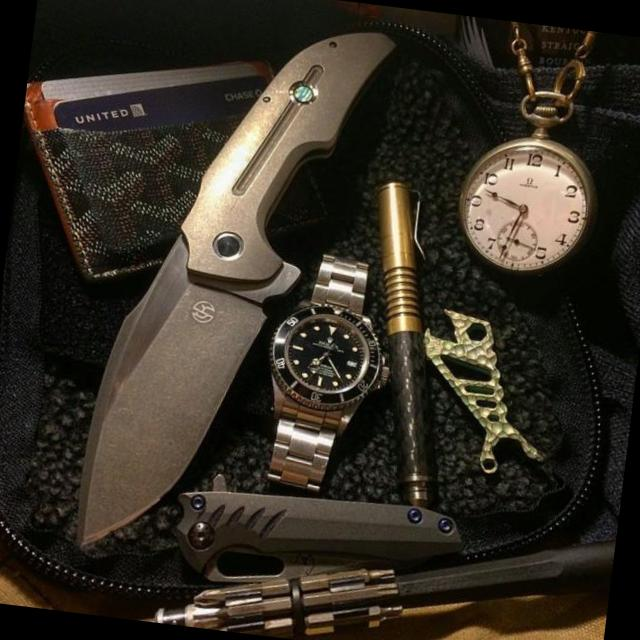Knife: (79, 31, 395, 553)
